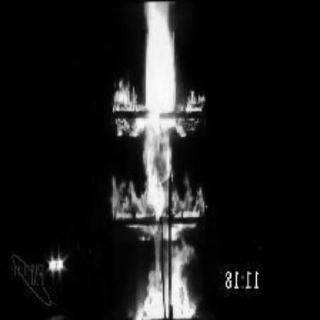other: (46, 250, 70, 276)
